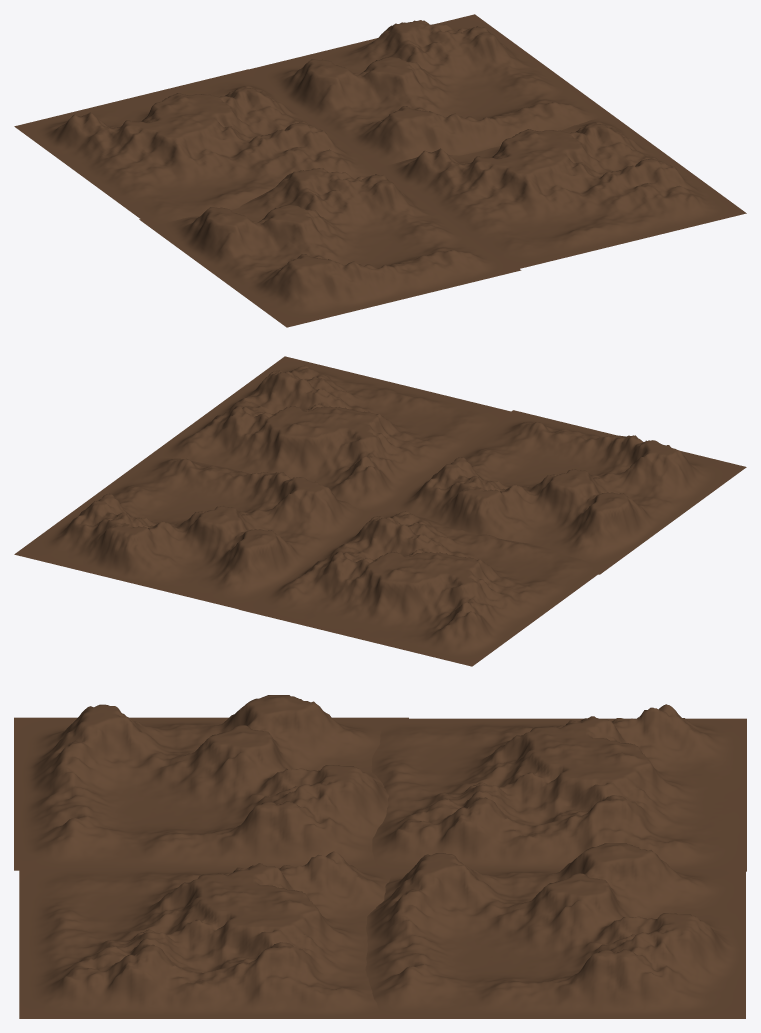
The model's file is terraine.fbx.
The picture shows the model from 3 angles, top to bottom: view 1: azimuth 30°, elevation 25°; view 2: azimuth 150°, elevation 25°; view 3: azimuth 270°, elevation 25°; orthographic projection. The views are drawn at different scales.
Visible parts, largest first — view 1: Landscape.001; view 2: Landscape.001; view 3: Landscape.001.
Boxes of the visible parts, x1,y1,x2,y2 form: Landscape.001: (14,14,746,327); Landscape.001: (14,356,746,666); Landscape.001: (14,695,746,1018).
Size of the model in its own units: 584 by 39.9 by 601.
